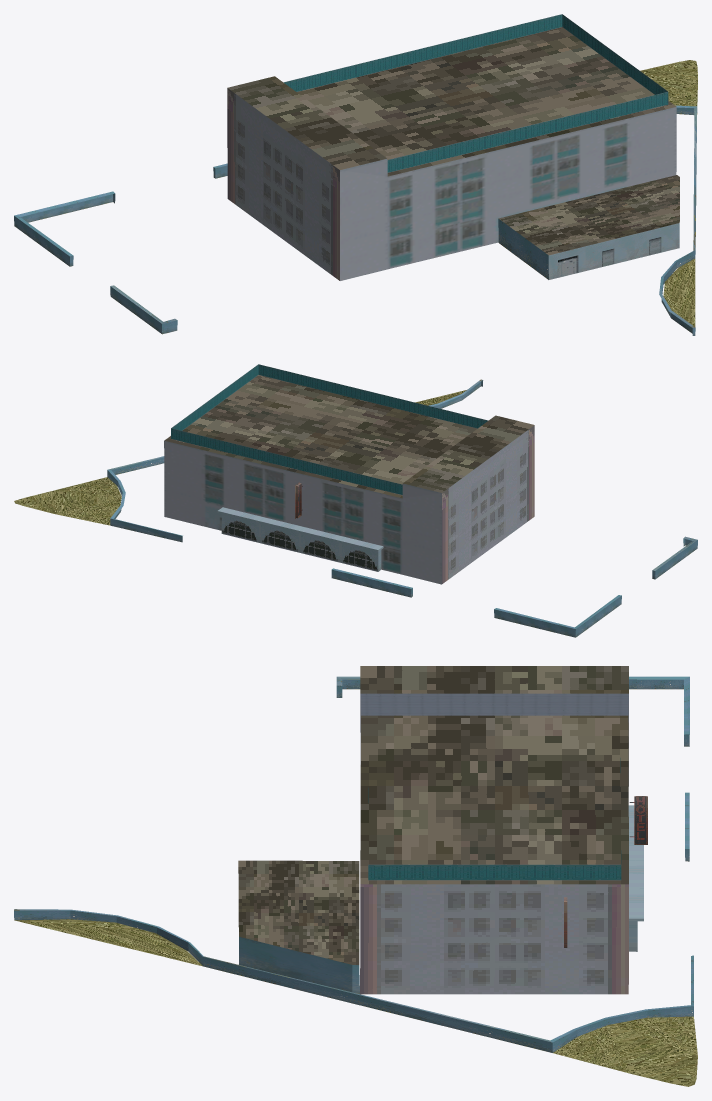
The model's file is lodidhotel_vgn.obj.
3 renders of one model, top to bottom at view 1: azimuth 30°, elevation 25°; view 2: azimuth 150°, elevation 25°; view 3: azimuth 270°, elevation 25°, orthographic. The views are drawn at different scales.
Parts seen in each view (by area): view 1: lodidhotel_vgn; view 2: lodidhotel_vgn; view 3: lodidhotel_vgn.
Boxes of the visible parts, x1,y1,x2,y2 form: lodidhotel_vgn: (14, 14, 697, 335); lodidhotel_vgn: (14, 364, 697, 637); lodidhotel_vgn: (14, 666, 697, 1086).
Size of the model in its own units: 138 by 21.71 by 101.
Materials: 12 (12 with a texture image).
